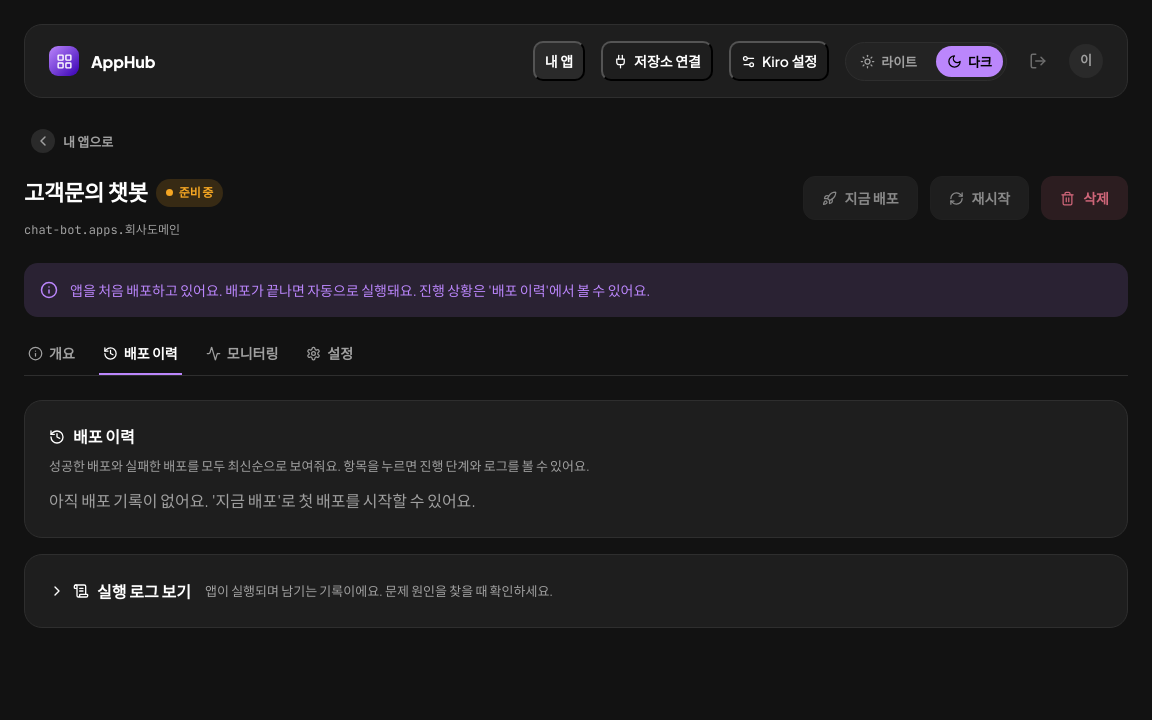
Test: M6 — 앱 실행 로그(최신이 위) › 서버가 준 최신순 그대로 최신 로그가 맨 위에 보인다
Click the button "실행 로그 보기 앱이 실행되며 남기는 기록이에요. 문제 원인을 찾을 때 확인하세요.". click: [144, 591]
box: [49, 579, 1103, 603]
(page scrolled)
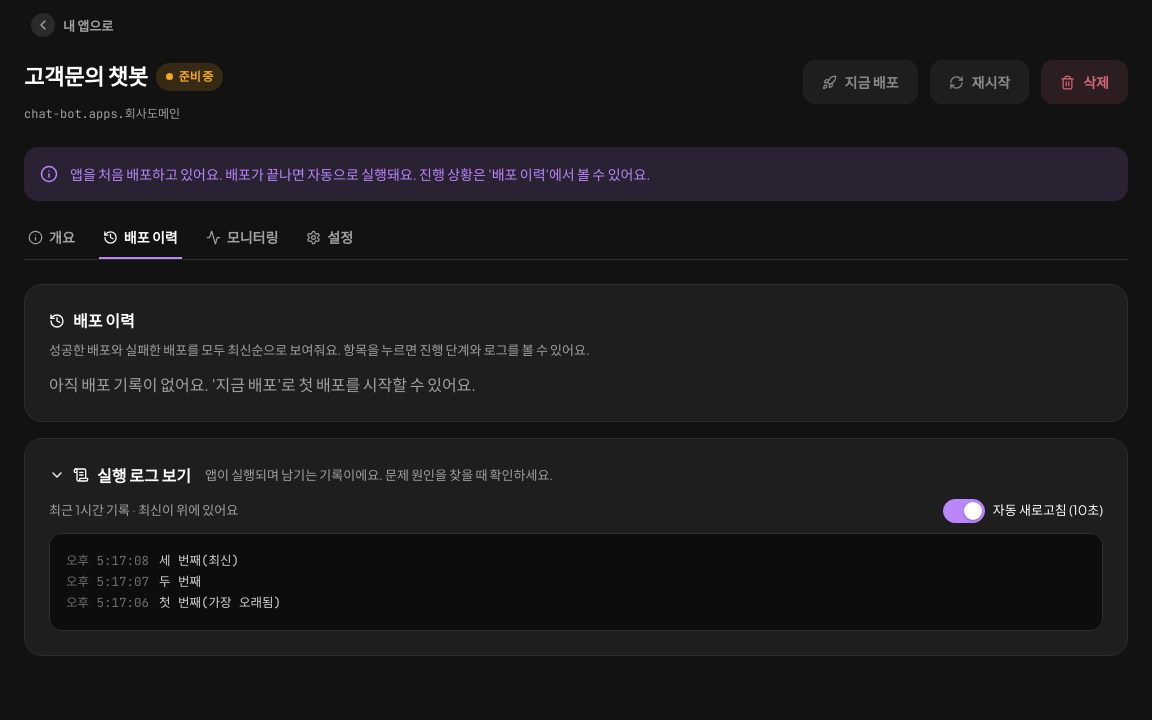
Expected: the element with class "log-line" shows "세 번째(최신)", [159, 552, 239, 569]
Expected: the element with class "log-line" shows "첫 번째(가장 오래됨)", [159, 594, 281, 611]
